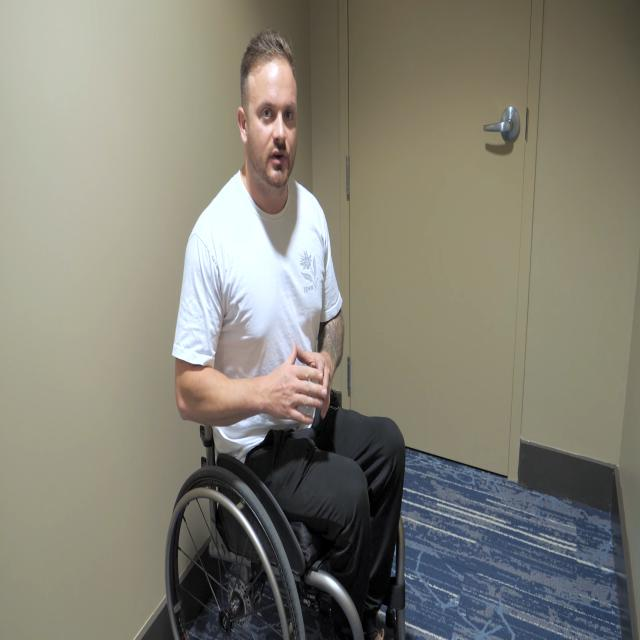wheelchairs: (162, 350, 412, 640)
